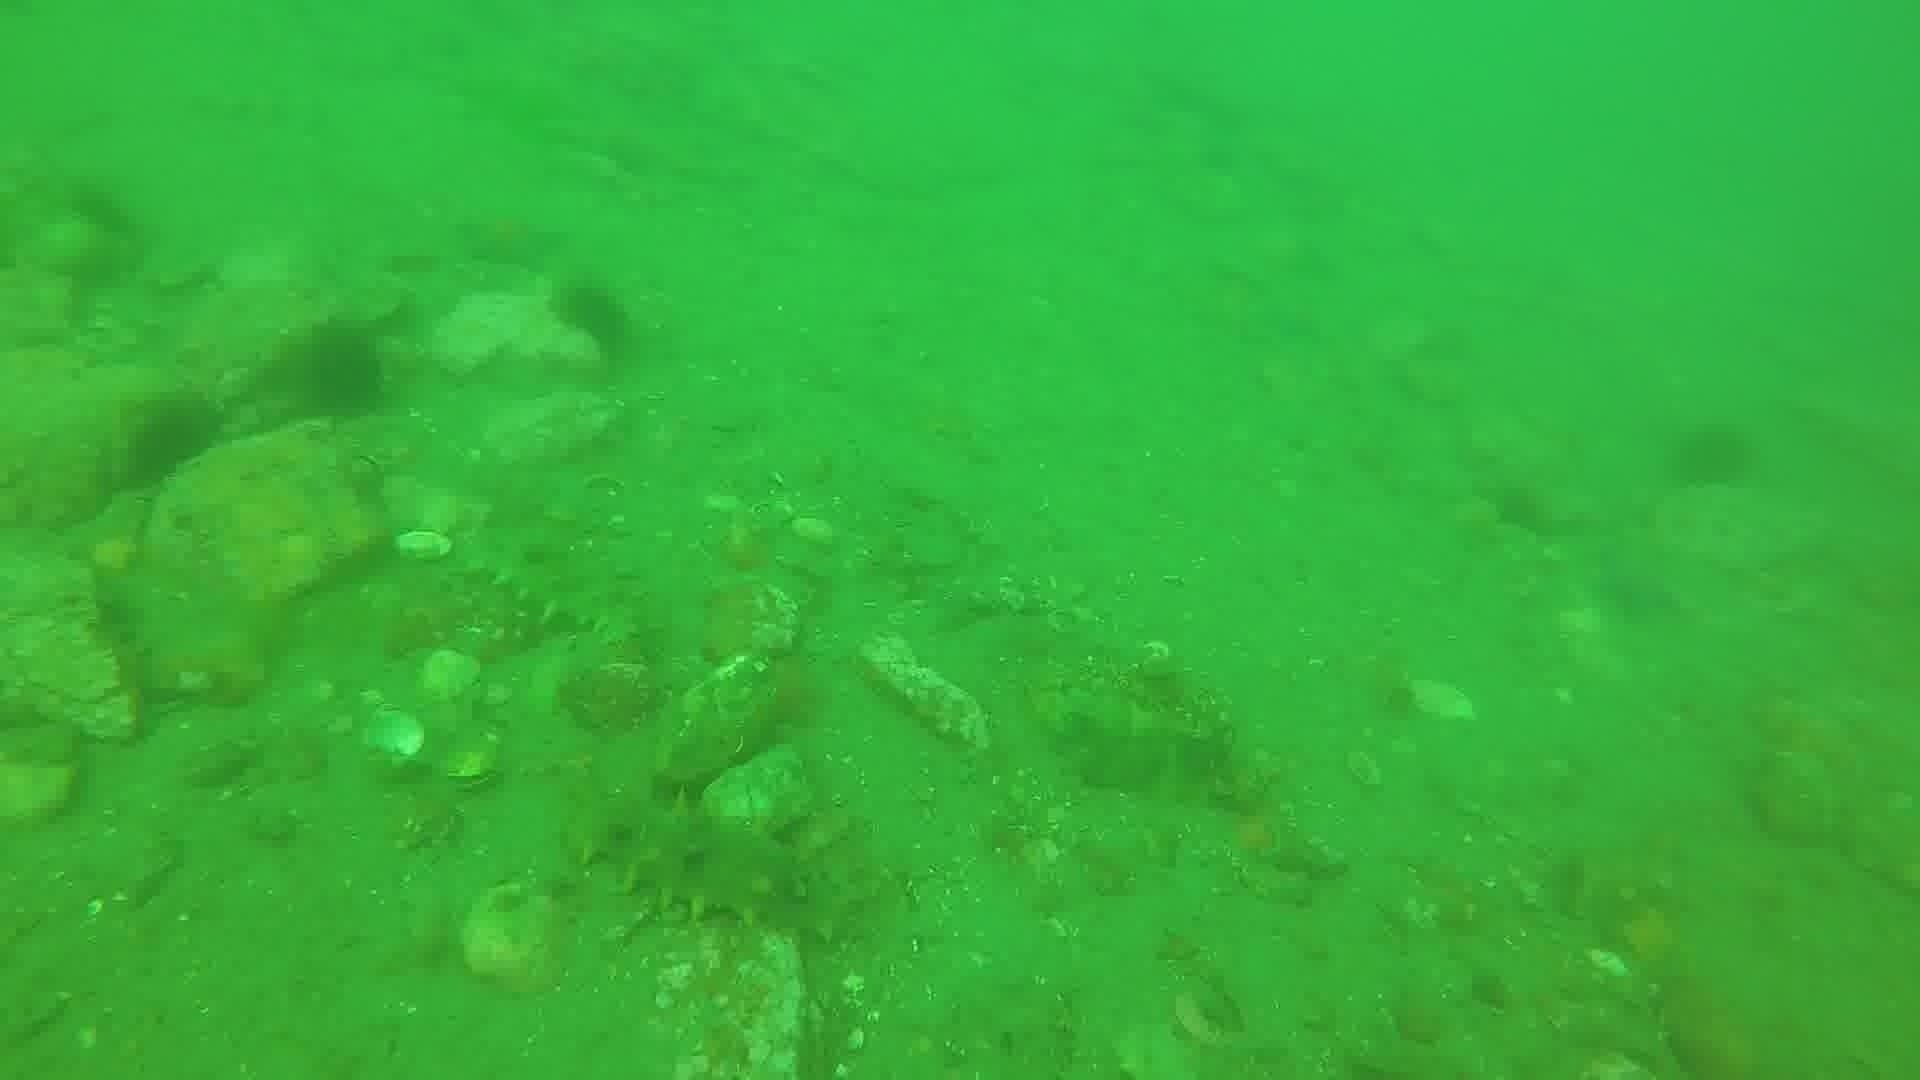echinus: (113, 392, 229, 498), (293, 320, 394, 423), (547, 277, 637, 359), (1667, 418, 1759, 496)
holothurian: (564, 789, 870, 945), (459, 506, 646, 644)
scallop: (454, 880, 567, 994), (356, 705, 429, 767)
starfish: (454, 200, 568, 276)
